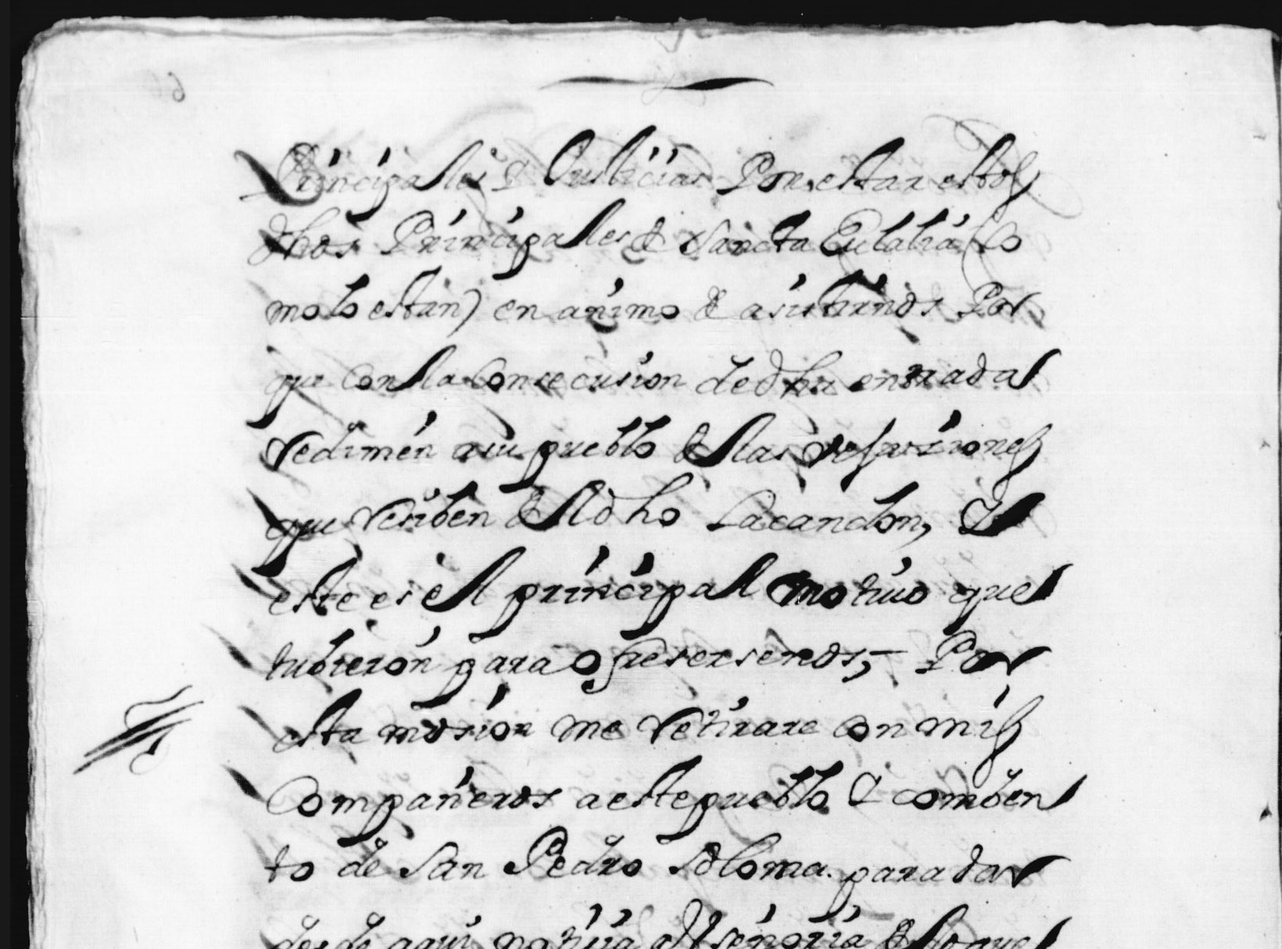lacandon: (706, 481, 922, 534)
